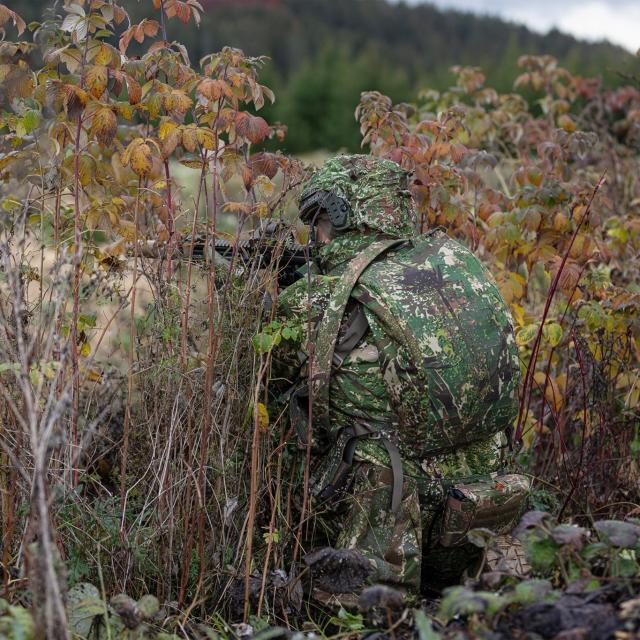Human: (124, 151, 521, 603)
